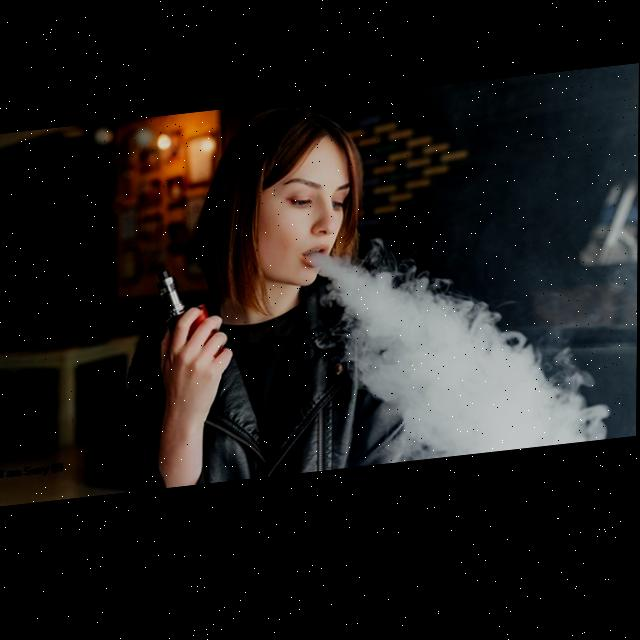vape: (156, 269, 208, 333)
